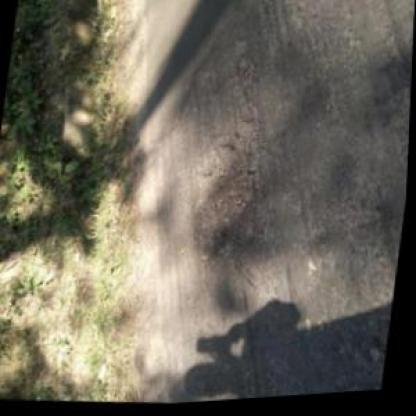pothole: (189, 108, 276, 247)
